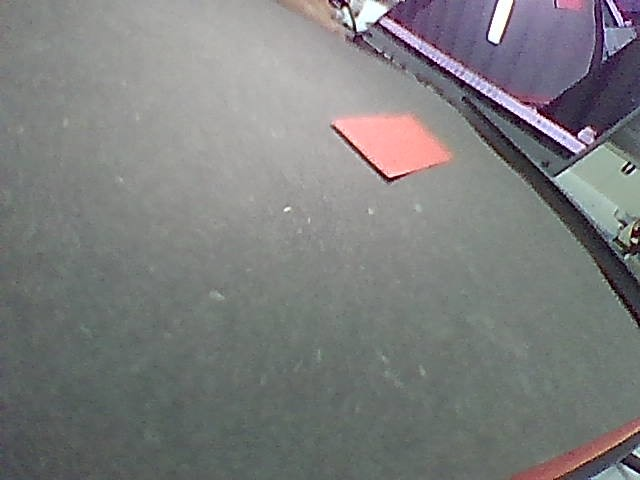card: (333, 115, 451, 179)
